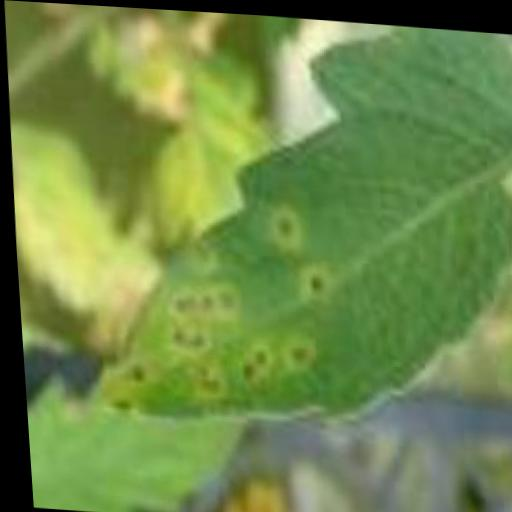Bacterial Spot: (58, 3, 512, 450)
